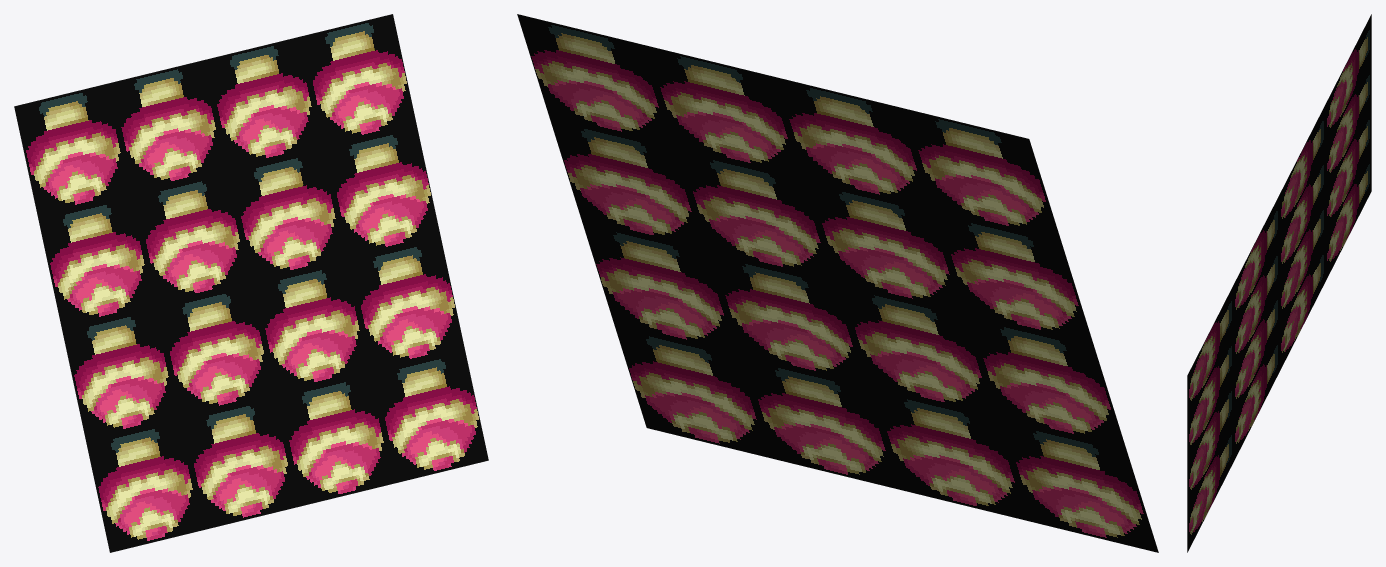
The model's file is kinoko_b05.gltf.
3 renders of one model, left to right at view 1: azimuth 30°, elevation 25°; view 2: azimuth 150°, elevation 25°; view 3: azimuth 270°, elevation 25°, orthographic. The views are drawn at different scales.
Visible parts, largest first — view 1: kinoko_b05; view 2: kinoko_b05; view 3: kinoko_b05.
Part boxes in pixels (bbox=[...]): kinoko_b05: bbox=[14, 14, 488, 552]; kinoko_b05: bbox=[517, 14, 1158, 552]; kinoko_b05: bbox=[1187, 14, 1371, 552].
Bounding box in the file's own units: 0.6023 × 0.5718 × 0.2639.
Materials: 1 (1 with a texture image).
